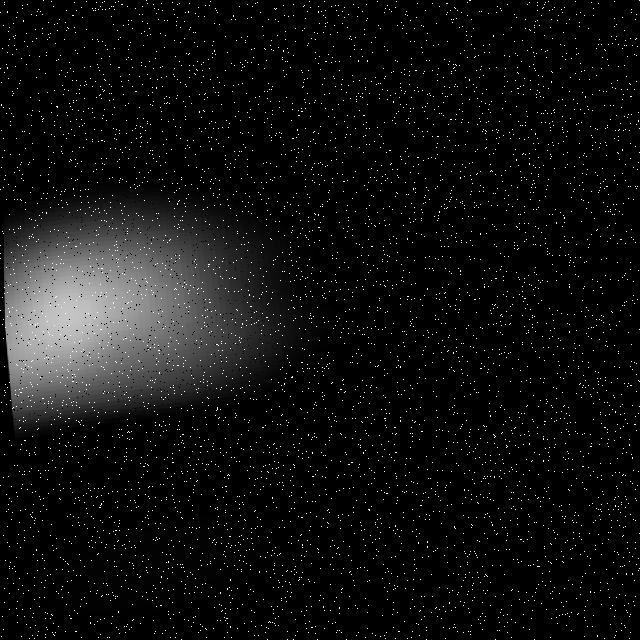person: (3, 172, 413, 442), (18, 447, 507, 640)
